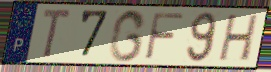7: (79, 9, 110, 61)
9: (185, 10, 221, 64)
F: (142, 10, 187, 62)
G: (107, 8, 148, 64)
H: (216, 13, 261, 63)
T: (41, 7, 74, 61)
